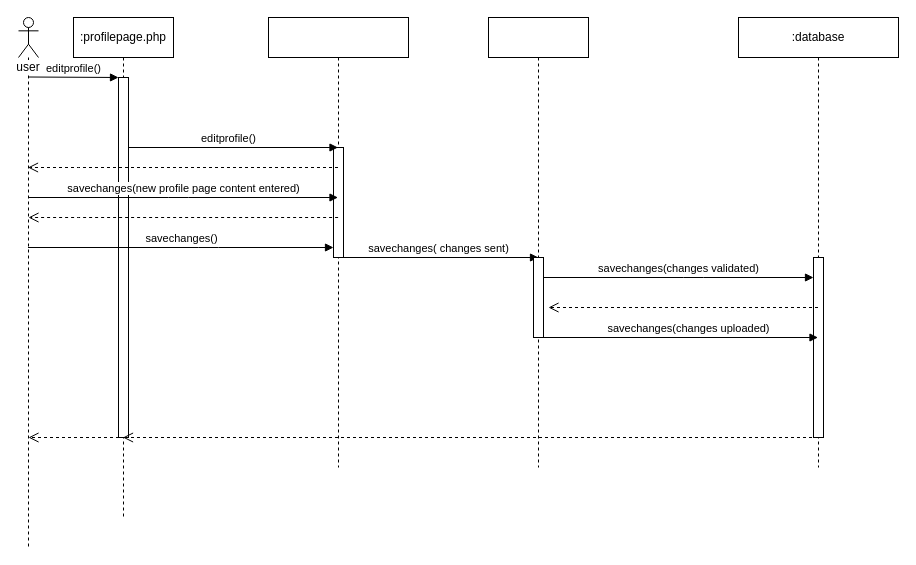
Image size: 916x565. Some labels were removed from this diagram. The shapes that lost their labels are listed below. From the top down, each one's box as (x1, y1, x2, y2) in pixels, then its label:
(268, 16, 408, 468): :profilepageedit.php
(488, 16, 588, 468): savechanges.php
